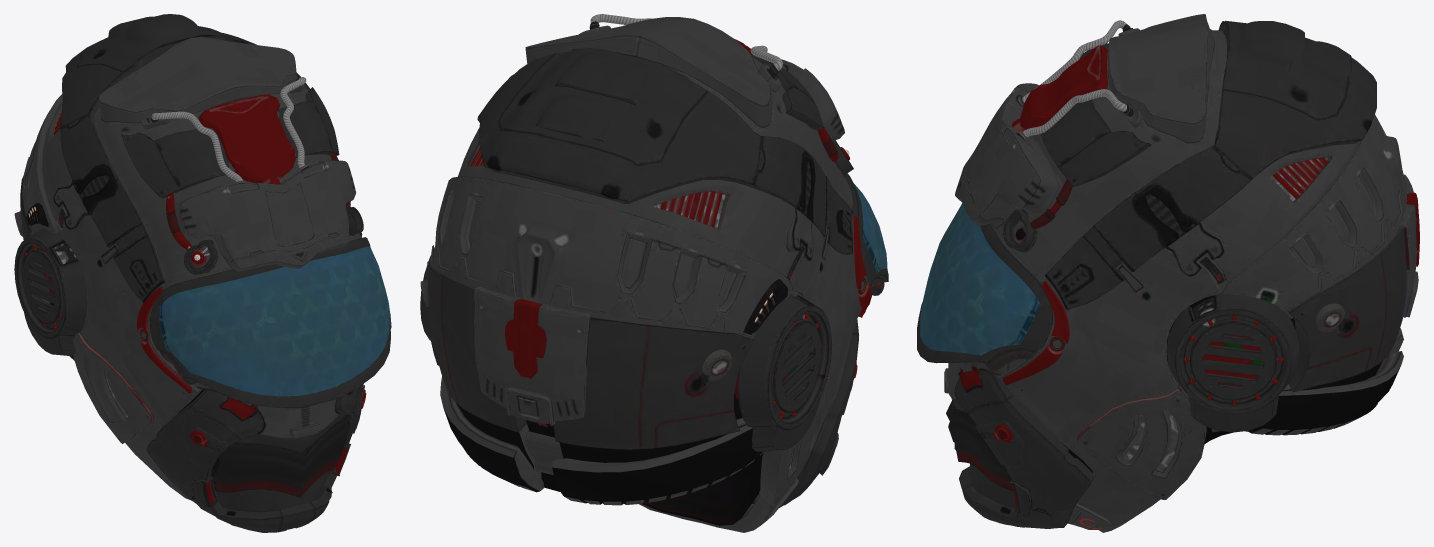
Rendered from helmet-transformed.glb.
3 views of the same model, side by side, from view 1: azimuth 30°, elevation 25°; view 2: azimuth 150°, elevation 25°; view 3: azimuth 270°, elevation 25° (orthographic). The views are drawn at different scales.
Parts seen in each view (by area): view 1: visor_low, topPieceMain_low, sidePiece_low, sidePiece2_low, topPieceMain3_low, subCheeks_low, topPieceMain4_low, earphone_low, mouthPieceGuard_low, topPieceMain2_low, visorOutline_low, mouthPieceBack_low (+9 smaller); view 2: sidePiece2_low, backPiece1_low, topPieceMain33_low, sidePiece_low, topPieceMain_low, topPieceMain4_low (×2), backNeckPiece2_low, earphone_low, inside_low, backNeckPiece_low, topPieceMain2_low, subCheeks_low (+9 smaller); view 3: sidePiece_low, sidePiece2_low, topPieceMain_low, backPiece1_low, earphone_low, visor_low, topPieceMain33_low, subCheeks_low, topPieceMain3_low, topPieceMain4_low (×2), backNeckPiece2_low, topPieceMain2_low (×2) (+12 smaller).
Boxes of the visible parts, left/top/right/bottom form: visor_low: left=159, top=246, right=390, bottom=396; topPieceMain_low: left=93, top=37, right=361, bottom=287; sidePiece_low: left=42, top=101, right=361, bottom=500; sidePiece2_low: left=60, top=14, right=362, bottom=302; topPieceMain3_low: left=175, top=160, right=355, bottom=271; subCheeks_low: left=146, top=384, right=363, bottom=532; topPieceMain4_low: left=121, top=87, right=339, bottom=198; earphone_low: left=14, top=228, right=86, bottom=355; mouthPieceGuard_low: left=211, top=414, right=350, bottom=497; topPieceMain2_low: left=198, top=94, right=295, bottom=184; visorOutline_low: left=149, top=237, right=391, bottom=407; mouthPieceBack_low: left=216, top=412, right=345, bottom=511; sidePiece2_low: left=477, top=48, right=852, bottom=254; backPiece1_low: left=433, top=176, right=793, bottom=339; topPieceMain33_low: left=427, top=259, right=754, bottom=449; sidePiece_low: left=457, top=128, right=869, bottom=532; topPieceMain_low: left=525, top=17, right=852, bottom=208; topPieceMain4_low (×2): left=474, top=54, right=823, bottom=425; backNeckPiece2_low: left=440, top=376, right=763, bottom=505; earphone_low: left=420, top=247, right=832, bottom=451; inside_low: left=527, top=393, right=763, bottom=525; backNeckPiece_low: left=455, top=402, right=746, bottom=478; topPieceMain2_low: left=430, top=245, right=751, bottom=338; subCheeks_low: left=779, top=319, right=858, bottom=507; sidePiece_low: left=997, top=143, right=1356, bottom=532; sidePiece2_low: left=1045, top=20, right=1376, bottom=309; topPieceMain_low: left=992, top=14, right=1226, bottom=281; backPiece1_low: left=1223, top=115, right=1406, bottom=316; earphone_low: left=1166, top=291, right=1300, bottom=432; visor_low: left=920, top=203, right=1040, bottom=355; topPieceMain33_low: left=1288, top=228, right=1406, bottom=392; subCheeks_low: left=954, top=359, right=1093, bottom=528; topPieceMain3_low: left=955, top=83, right=1062, bottom=228; topPieceMain4_low (×2): left=1041, top=43, right=1418, bottom=317; backNeckPiece2_low: left=1206, top=328, right=1403, bottom=435; topPieceMain2_low (×2): left=1011, top=45, right=1406, bottom=318.
Size of the model in its own units: 669 by 976 by 911.
1 material, 1 textured.
